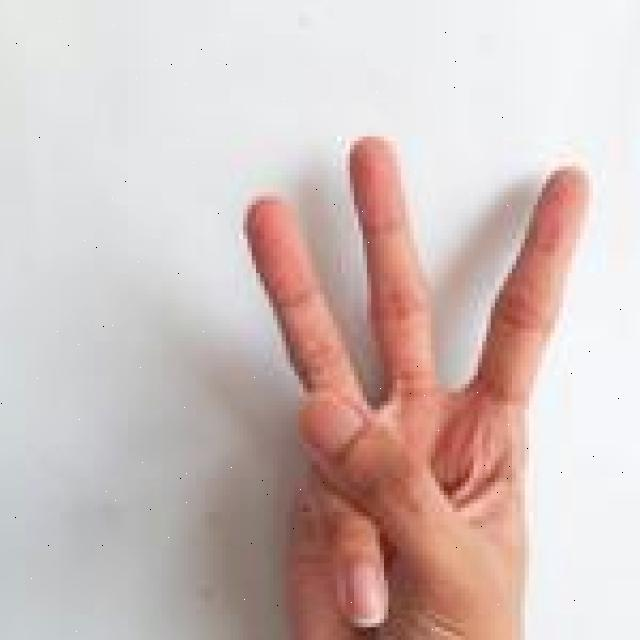W: (235, 125, 598, 640)
